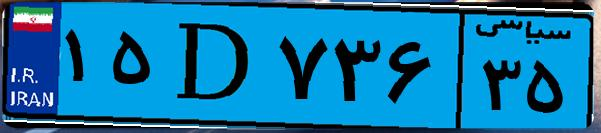1: (57, 26, 110, 100)
3: (330, 28, 385, 110), (475, 38, 525, 113)
5: (525, 38, 570, 115), (110, 28, 158, 98)
6: (385, 28, 445, 110)
7: (270, 28, 330, 110)
D: (158, 12, 270, 120)
